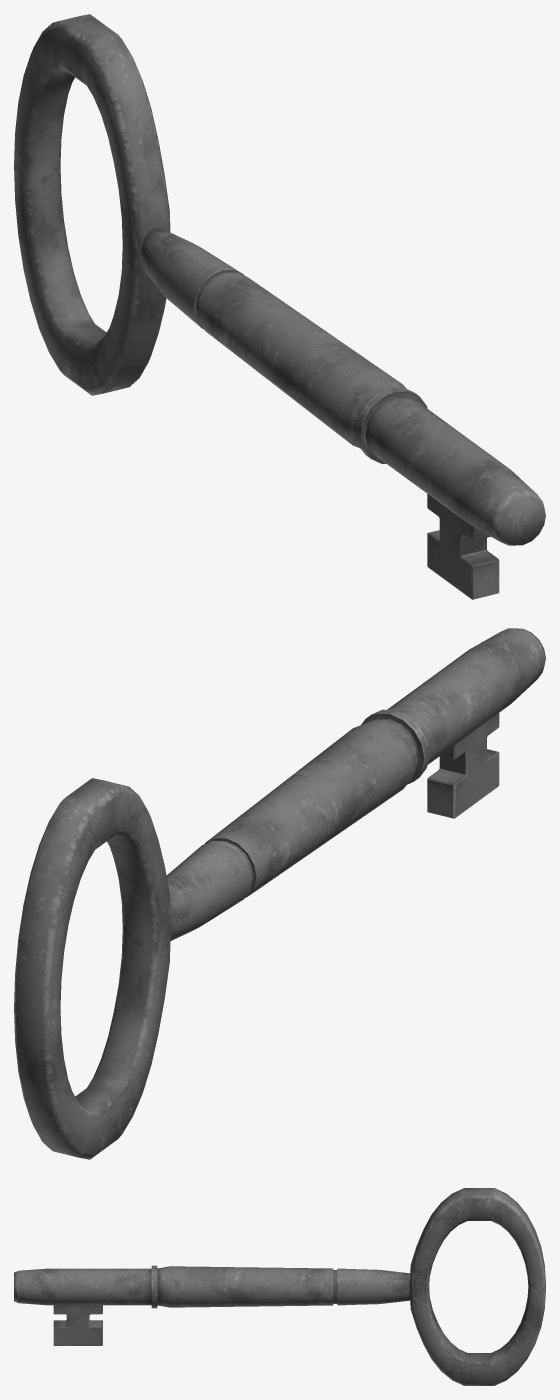
The model's file is Key.gltf.glb.
3 views of the same model, one above another, from view 1: azimuth 30°, elevation 25°; view 2: azimuth 150°, elevation 25°; view 3: azimuth 270°, elevation 25° (orthographic). The views are drawn at different scales.
Visible parts, largest first — view 1: Cube; view 2: Cube; view 3: Cube.
Boxes of the visible parts, x1,y1,x2,y2 form: Cube: [14, 14, 545, 599]; Cube: [14, 628, 545, 1159]; Cube: [14, 1188, 545, 1385].
Size of what is drawn, in the model's own units: 0.0703 by 0.3342 by 0.8436.
1 material, 1 textured.
